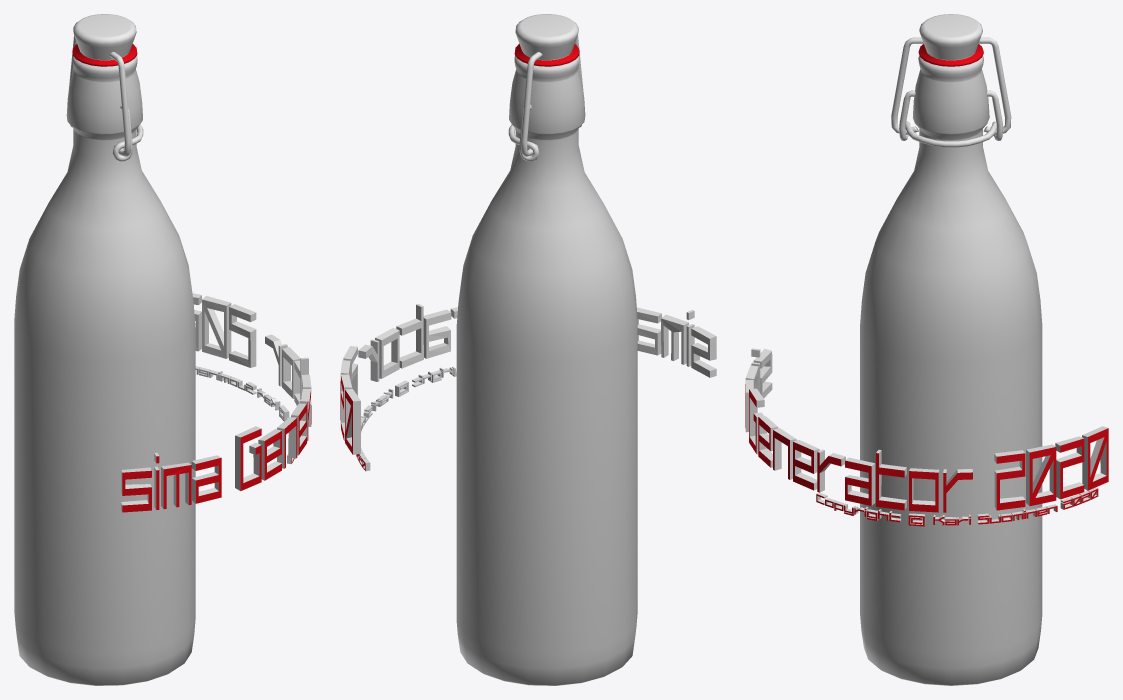
File: simapullo.gltf
3 views of the same model, side by side, from view 1: azimuth 30°, elevation 25°; view 2: azimuth 150°, elevation 25°; view 3: azimuth 270°, elevation 25° (orthographic).
Parts seen in each view (by area): view 1: pullo, teksti, korkki; view 2: pullo, teksti, korkki; view 3: pullo, teksti, korkki.
Part boxes in pixels (<box>): pullo: <box>14,55,195,685</box>; teksti: <box>121,293,311,512</box>; korkki: <box>68,14,143,161</box>; pullo: <box>456,55,637,685</box>; teksti: <box>340,303,716,471</box>; korkki: <box>508,14,582,161</box>; pullo: <box>860,56,1042,685</box>; teksti: <box>745,348,1108,526</box>; korkki: <box>891,14,1011,147</box>.
Size of the model in its own units: 14.05 by 32.53 by 17.17.
